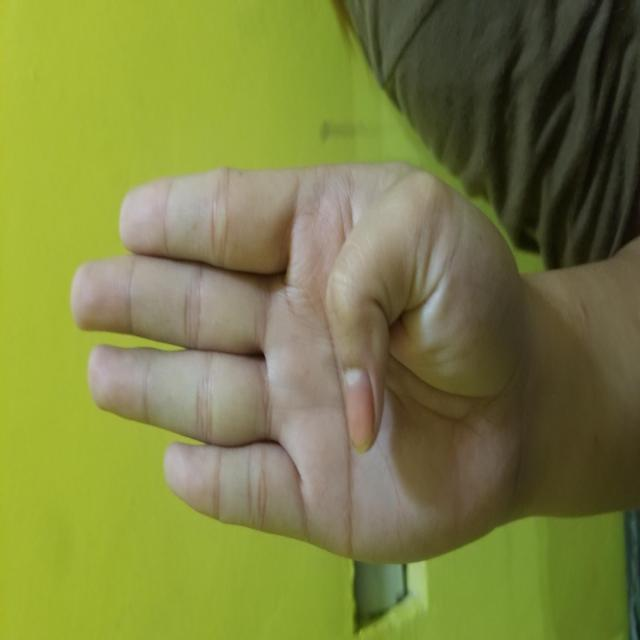B: (74, 68, 481, 520)
